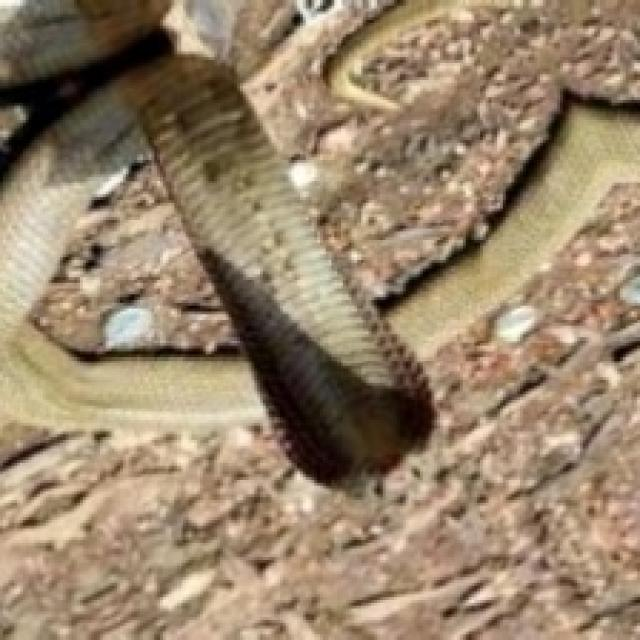philippine cobra: (0, 0, 560, 483), (0, 0, 431, 483)
